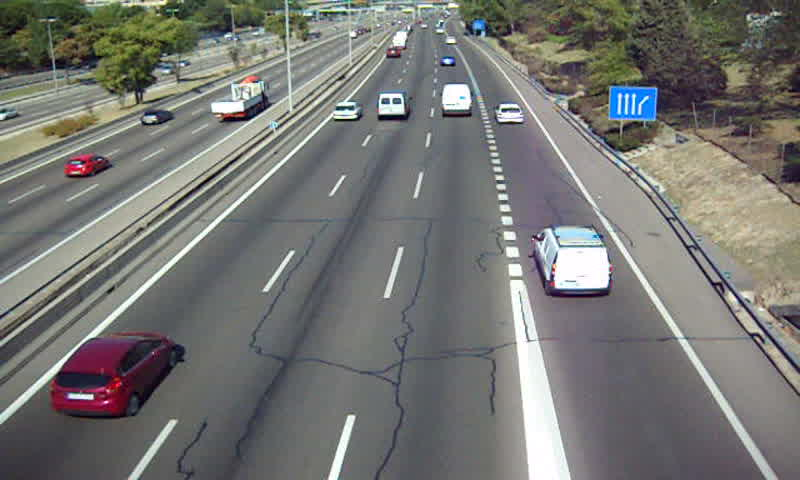car: (49, 332, 175, 419), (493, 102, 523, 123), (332, 102, 362, 121)
van: (531, 226, 613, 296), (440, 84, 474, 117), (377, 90, 413, 117)
